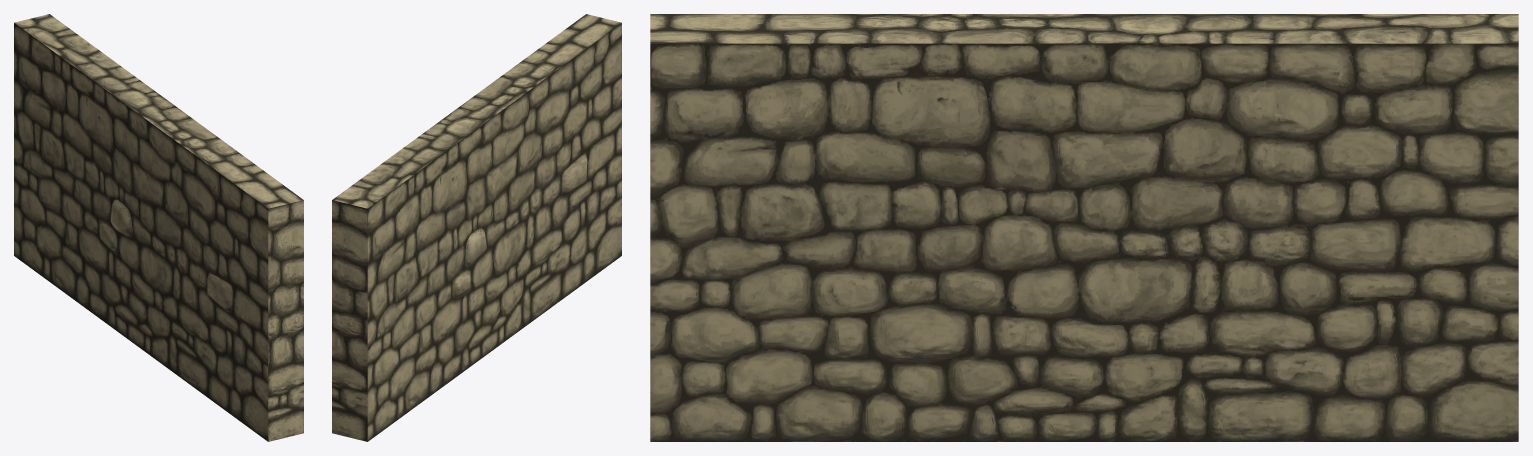
The model's file is wallPanelPlain 1.fbx.
3 renders of one model, left to right at view 1: azimuth 30°, elevation 25°; view 2: azimuth 150°, elevation 25°; view 3: azimuth 270°, elevation 25°, orthographic. The views are drawn at different scales.
Visible parts, largest first — view 1: wall1; view 2: wall1; view 3: wall1.
Part boxes in pixels (box(x1,y1,x2,y2)): wall1: box(14, 14, 303, 441); wall1: box(332, 14, 621, 441); wall1: box(650, 14, 1518, 441).
Size of the model in its own units: 72.93 by 404 by 798.
